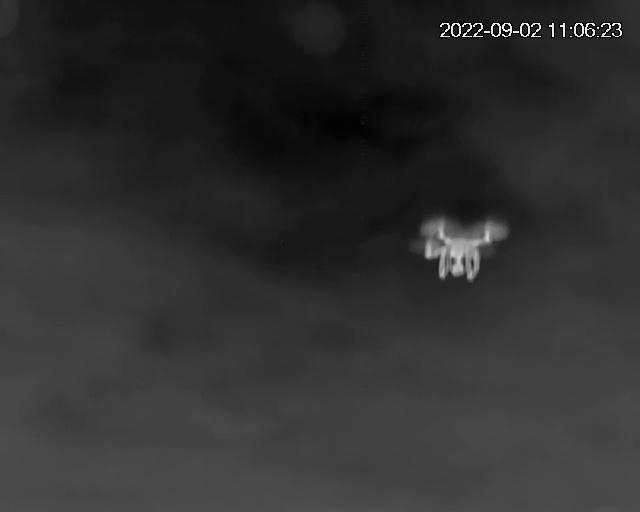DJI-Phantom: (417, 217, 505, 280)
